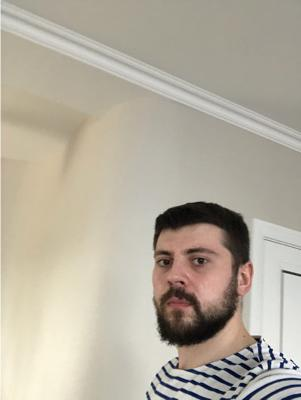without_mask: (152, 236, 225, 349)
